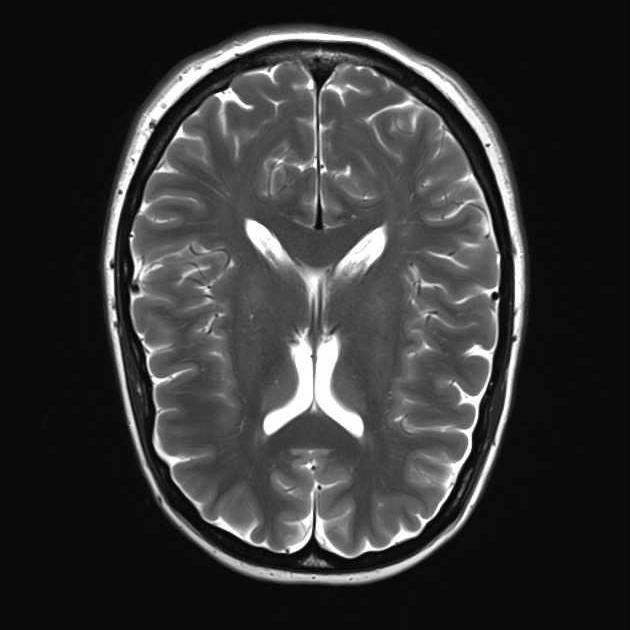Normal_Brain: (63, 19, 630, 599)
